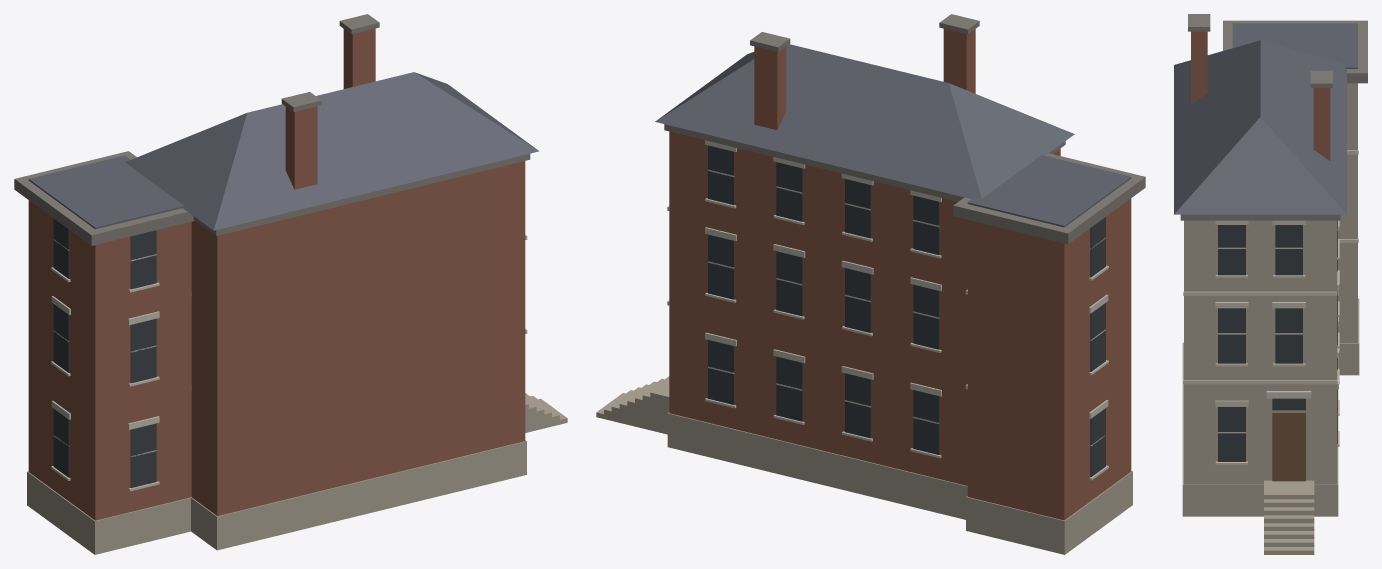
File: house_2016_calumet__draft_1904.glb
The picture shows the model from 3 angles, left to right: view 1: azimuth 30°, elevation 25°; view 2: azimuth 150°, elevation 25°; view 3: azimuth 270°, elevation 25°; orthographic projection. The views are drawn at different scales.
Parts seen in each view (by area): view 1: house_2016_calumet__draft_1904; view 2: house_2016_calumet__draft_1904; view 3: house_2016_calumet__draft_1904.
Boxes of the visible parts, x1,y1,x2,y2 form: house_2016_calumet__draft_1904: (14,14,567,554); house_2016_calumet__draft_1904: (596,14,1145,554); house_2016_calumet__draft_1904: (1174,14,1367,554).
Size of the model in its own units: 19.4 by 15.7 by 6.95.
